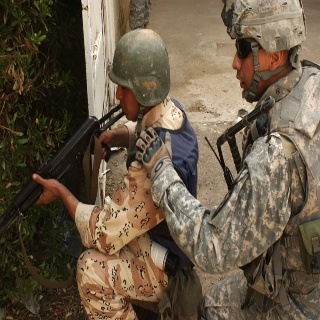rifle: (2, 102, 124, 237)
